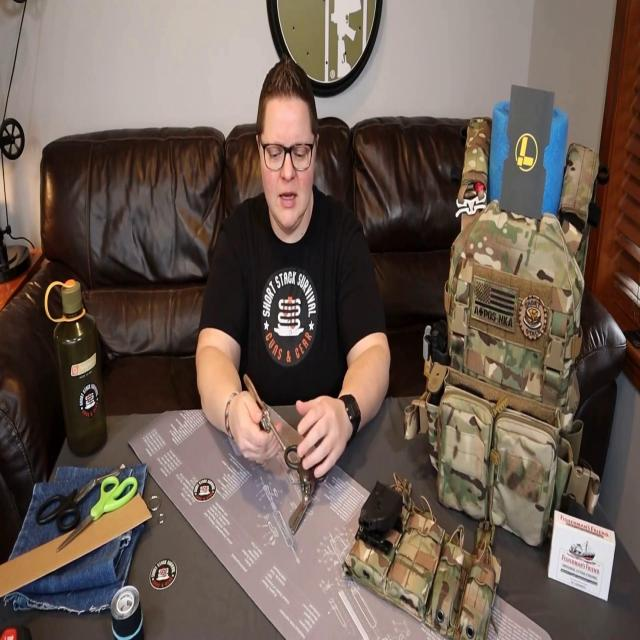scissor: (56, 477, 137, 552), (36, 467, 125, 534), (283, 445, 327, 535)
